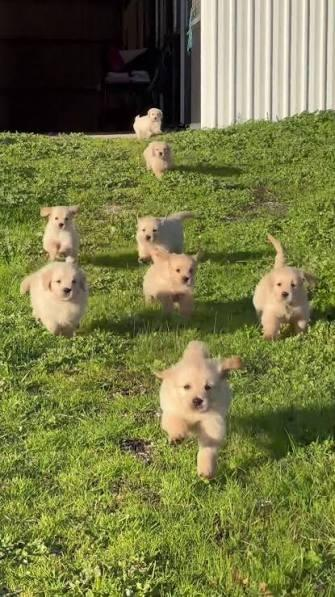puppy-dog: (150, 340, 242, 478), (253, 236, 320, 341), (19, 259, 90, 337), (142, 252, 202, 319), (135, 211, 196, 265), (40, 205, 81, 262), (141, 141, 171, 179), (133, 108, 166, 142)
